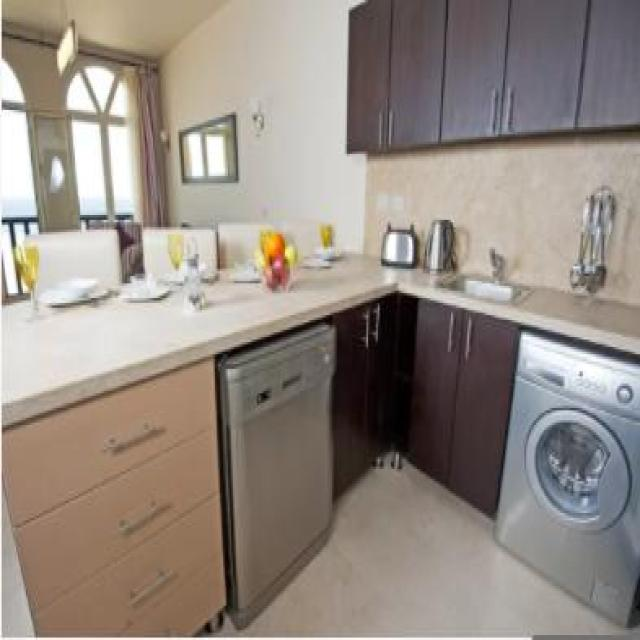dishwasher: (214, 308, 340, 618)
